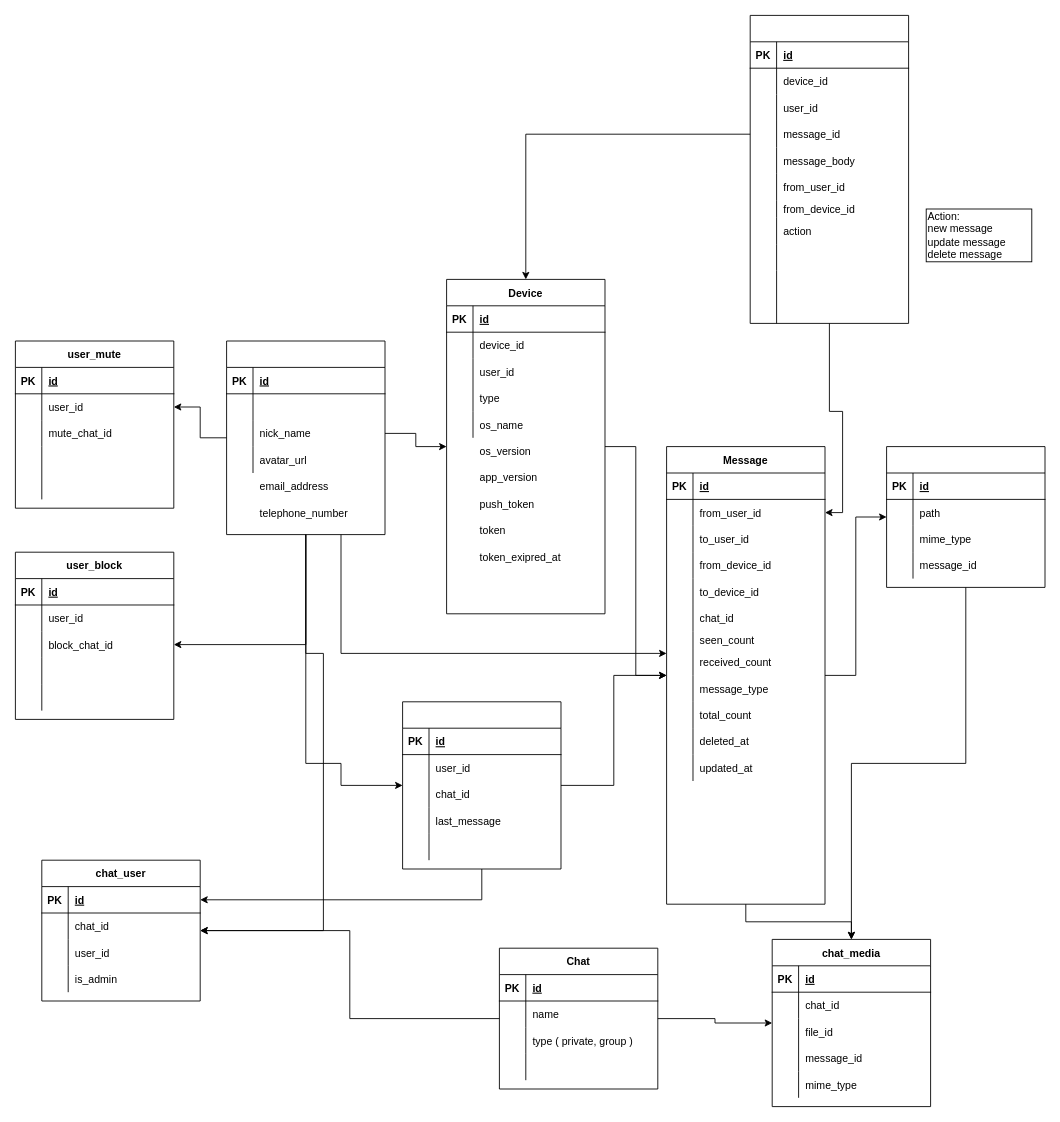
This 1060x1122 diagram has some shape labels left out. The shapes that lost their labels are listed below. From the top down, each one's box as (x1, y1, x2, y2) in pixels, then its label:
(749, 15, 909, 323): message_device
(226, 340, 385, 535): User
(886, 446, 1045, 587): File
(402, 701, 561, 869): History
